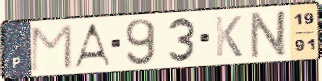3: (167, 16, 198, 64)
9: (124, 17, 157, 67)
A: (70, 21, 114, 69)
K: (213, 14, 245, 59)
M: (28, 22, 75, 74)
N: (248, 7, 291, 60)
